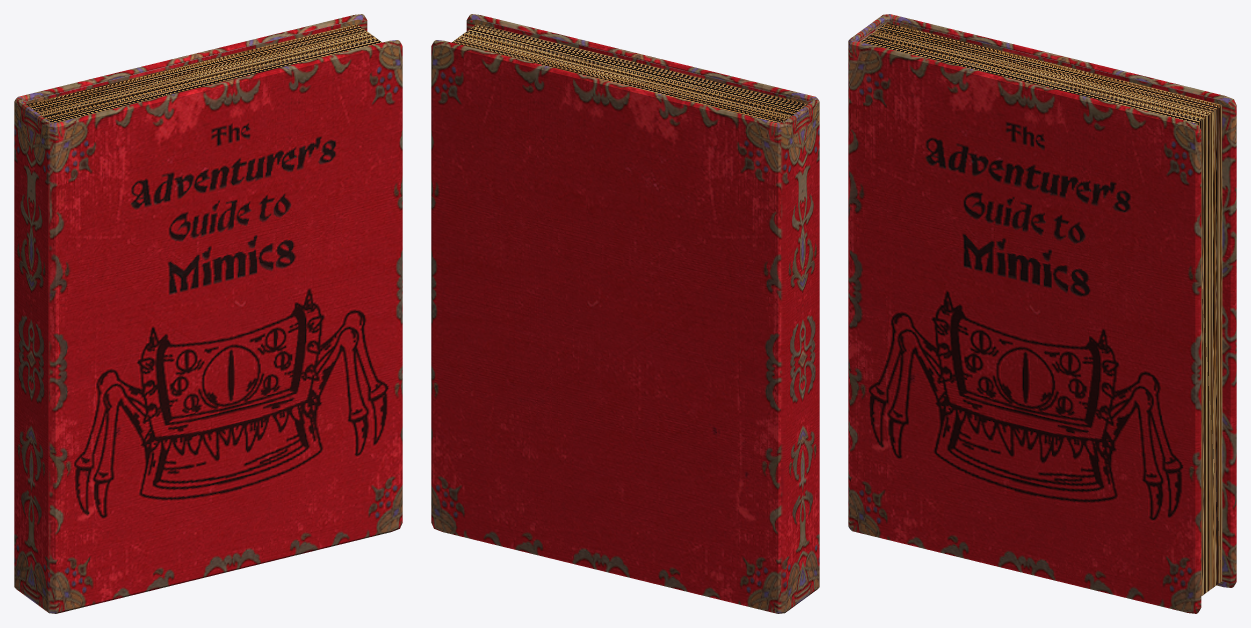
The model's file is LibroMimic01.fbx.
3 views of the same model, side by side, from view 1: azimuth 30°, elevation 25°; view 2: azimuth 150°, elevation 25°; view 3: azimuth 330°, elevation 25° (orthographic).
Parts seen in each view (by area): view 1: Libro Cerrado; view 2: Libro Cerrado; view 3: Libro Cerrado.
Part boxes in pixels (<box>): Libro Cerrado: <box>14,14,402,613</box>; Libro Cerrado: <box>431,14,819,613</box>; Libro Cerrado: <box>848,14,1236,613</box>.
Size of the model in its own units: 24.81 by 32.91 by 4.81.
Materials: 1 (1 with a texture image).
